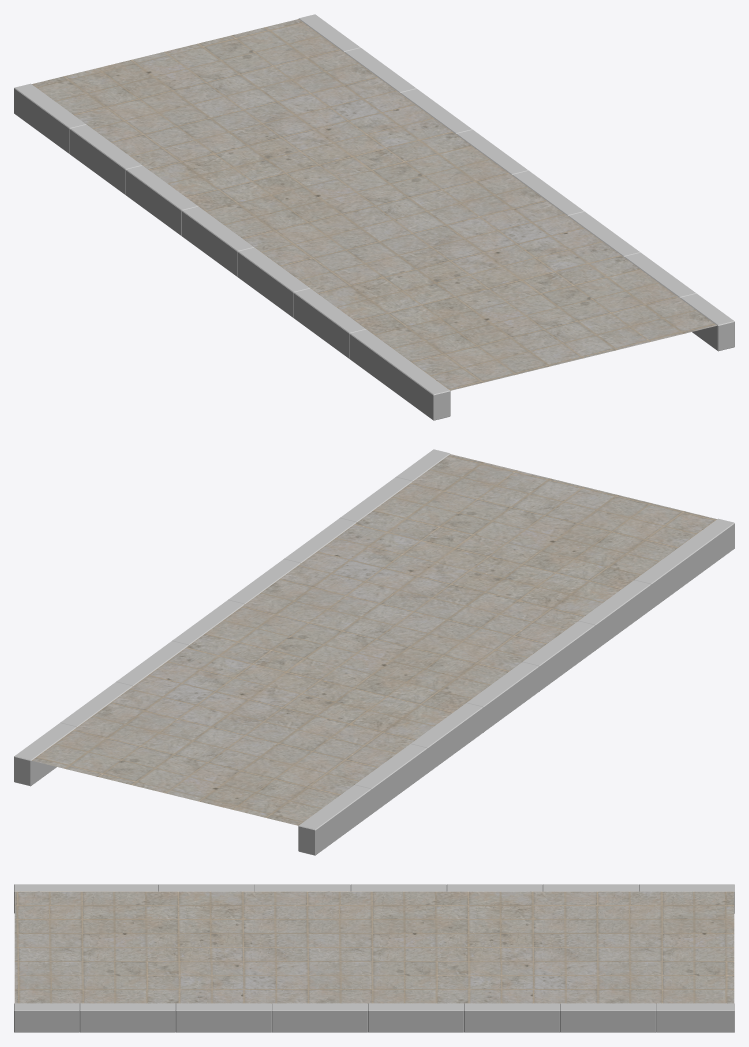
Rendered from SM_RoyalRoad01A.fbx.
3 views of the same model, one above another, from view 1: azimuth 30°, elevation 25°; view 2: azimuth 150°, elevation 25°; view 3: azimuth 270°, elevation 25° (orthographic). The views are drawn at different scales.
Visible parts, largest first — view 1: SM_RoyalRoad01A; view 2: SM_RoyalRoad01A; view 3: SM_RoyalRoad01A.
Part boxes in pixels (x1,y1,x2,y2): SM_RoyalRoad01A: (14, 14, 734, 420); SM_RoyalRoad01A: (14, 449, 734, 855); SM_RoyalRoad01A: (14, 884, 734, 1032).
Bounding box in the file's own units: 429 × 1032 × 35.73.
